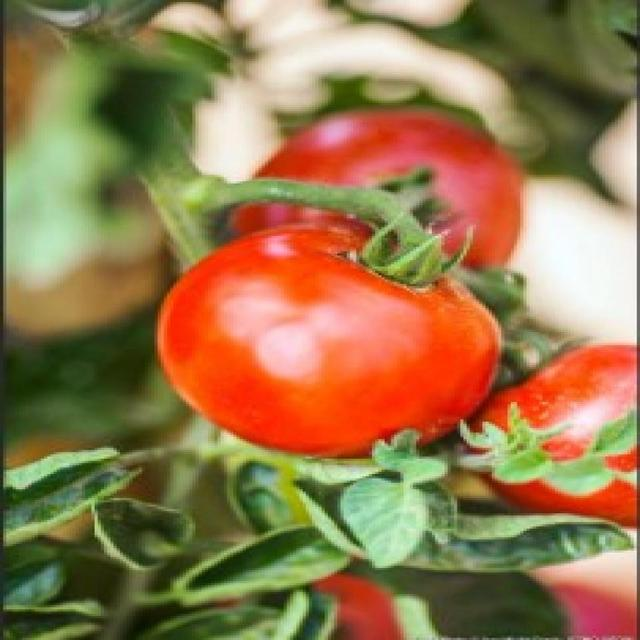Healthy Fruit: (115, 102, 366, 282)
